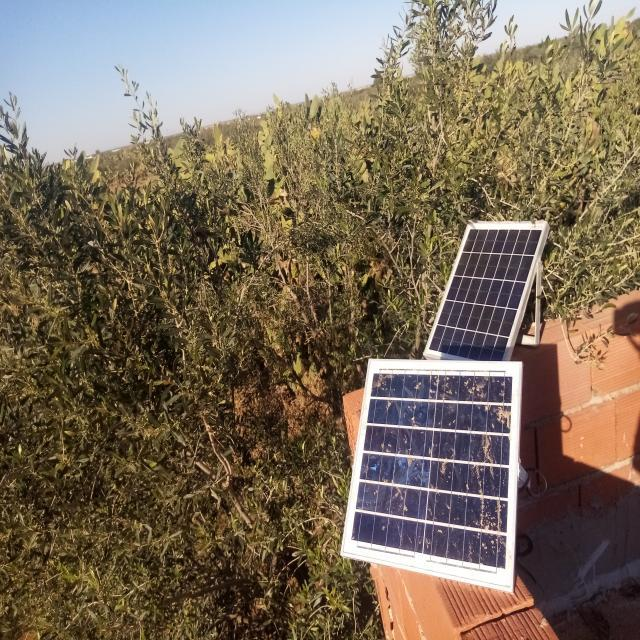faulty: (341, 361, 523, 587)
no faulty: (424, 222, 547, 360)
